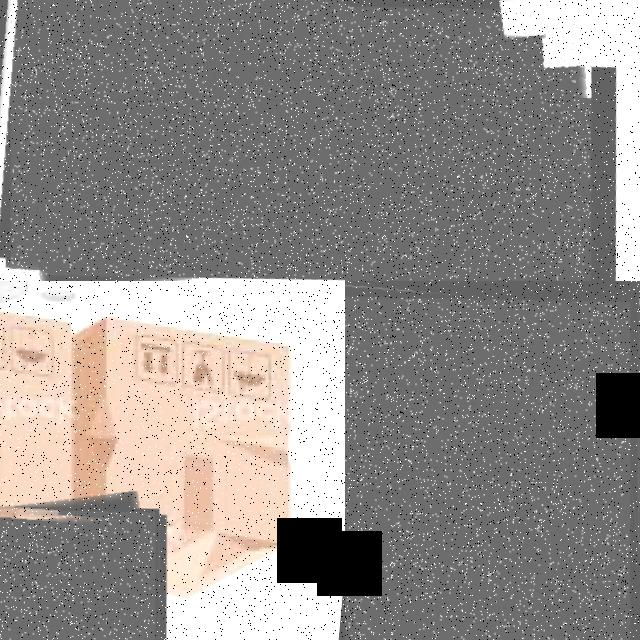Kardus kondisi bagus: (346, 1, 636, 282), (9, 310, 297, 587), (1, 507, 163, 640), (1, 309, 80, 557)
Kardus kondisi rusak: (346, 290, 635, 640), (45, 1, 346, 272)
